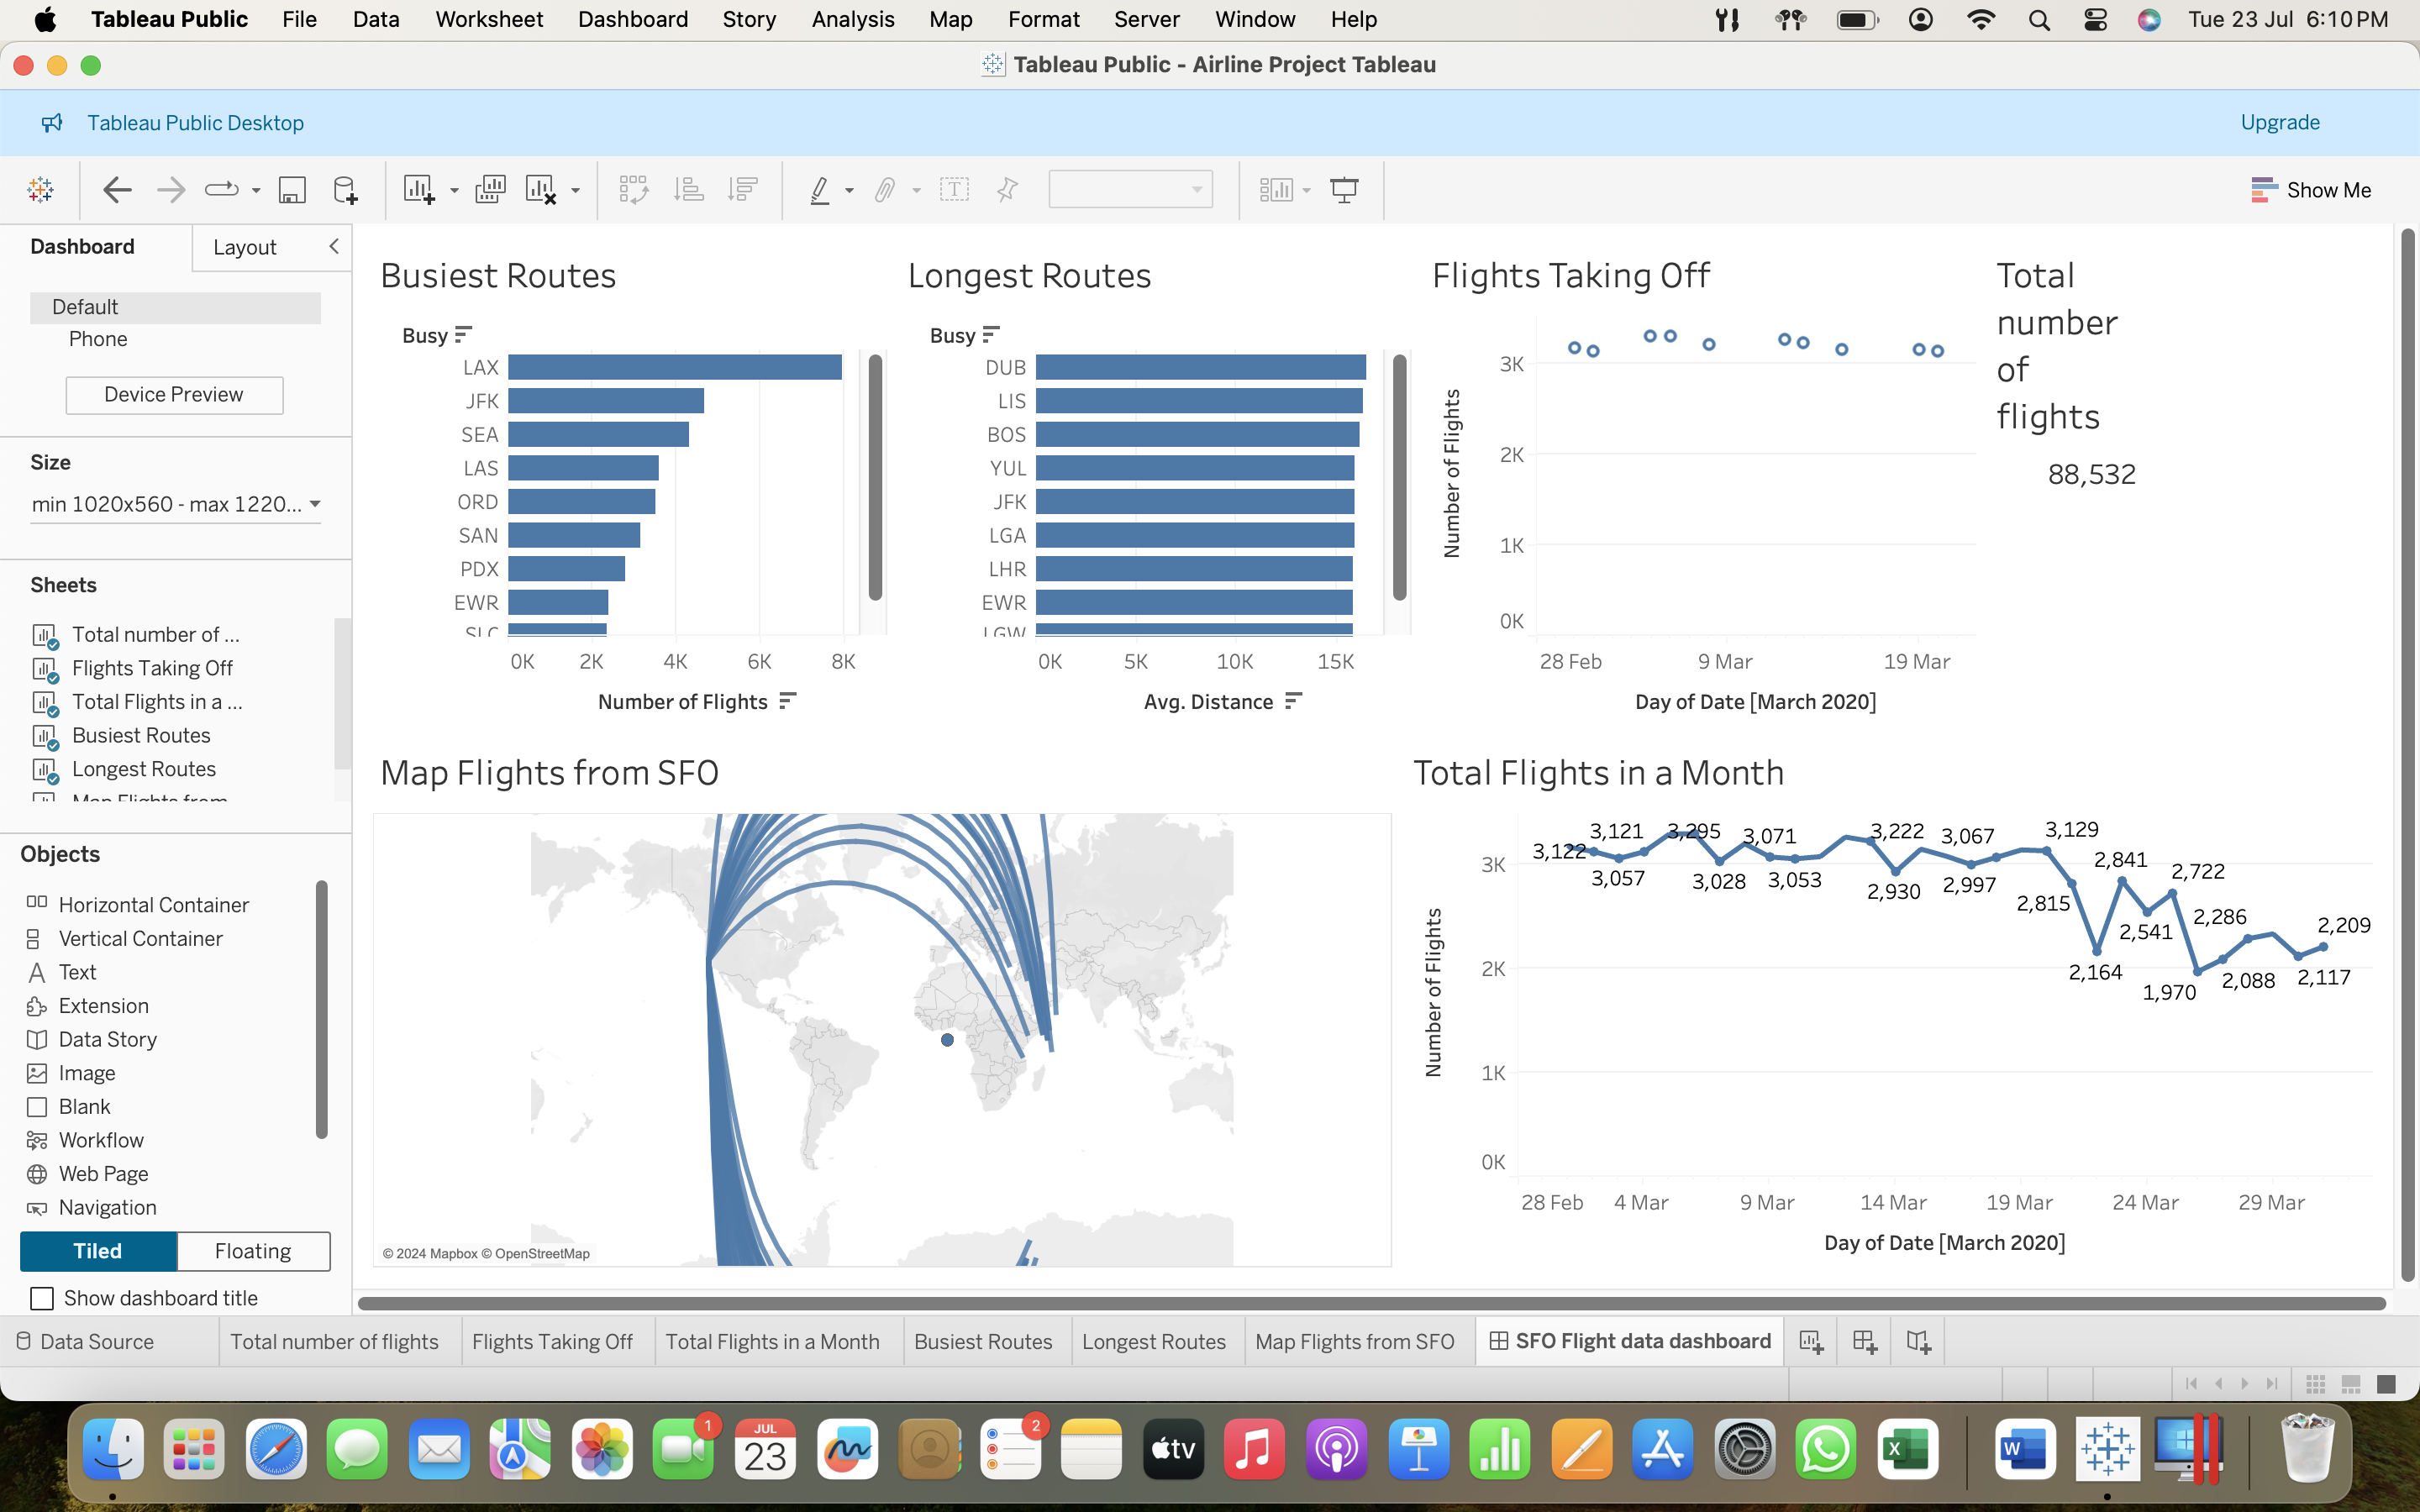

The page's visual inventory and layout, read from the dashboard file:
{"tool":"tableau","page":{"name":"SFO Flight data dashboard","canvas":[1000,1000],"units":"permille","ordinal":0},"visuals":[{"type":"worksheet","title":"Busiest Routes","mark":"Automatic","rows":["Calculation_106256846504681473"],"cols":["Calculation_106256846495297536"],"box":[6.6,12.6,258.6,466.9]},{"type":"worksheet","title":"Longest Routes","mark":"Automatic","rows":["Calculation_106256846504681473"],"cols":["Calculation_106256846506754052"],"box":[265.2,12.6,257,466.9]},{"type":"worksheet","title":"Flights Taking Off","mark":"Shape","rows":["Calculation_106256846495297536"],"cols":["Date"],"box":[522.2,12.6,276.8,466.9]},{"type":"worksheet","title":"Total number of flights","mark":"Automatic","box":[799,12.6,194.4,466.9]},{"type":"worksheet","title":"Map Flights from SFO","mark":"Multipolygon","box":[6.6,479.5,506.6,507.9]},{"type":"worksheet","title":"Total Flights in a Month","mark":"Automatic","rows":["Calculation_106256846495297536"],"cols":["Date"],"box":[513.2,479.5,480.2,507.9]}]}

Visuals, with their boxes on the dashboard's canvas, which has no fixed pixel size, in thousandths of its width and height (x1, y1, x2, y2). These are canvas units, not pixel positions in the 2420x1512 screenshot, which may show the page scaled, cropped or inside an application window:
"Busiest Routes" worksheet: bbox(7, 13, 265, 480)
"Longest Routes" worksheet: bbox(265, 13, 522, 480)
"Flights Taking Off" worksheet (Shape marks): bbox(522, 13, 799, 480)
"Total number of flights" worksheet: bbox(799, 13, 993, 480)
"Map Flights from SFO" worksheet (Multipolygon marks): bbox(7, 480, 513, 987)
"Total Flights in a Month" worksheet: bbox(513, 480, 993, 987)
